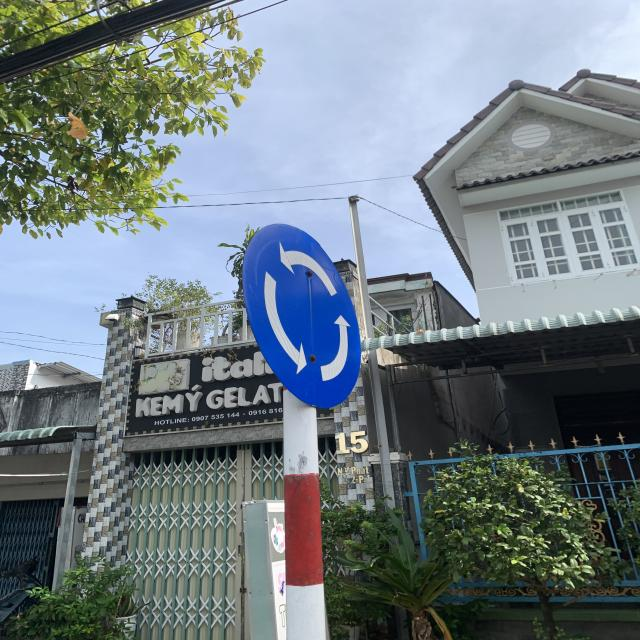Xe_Bus: (244, 224, 366, 411)
